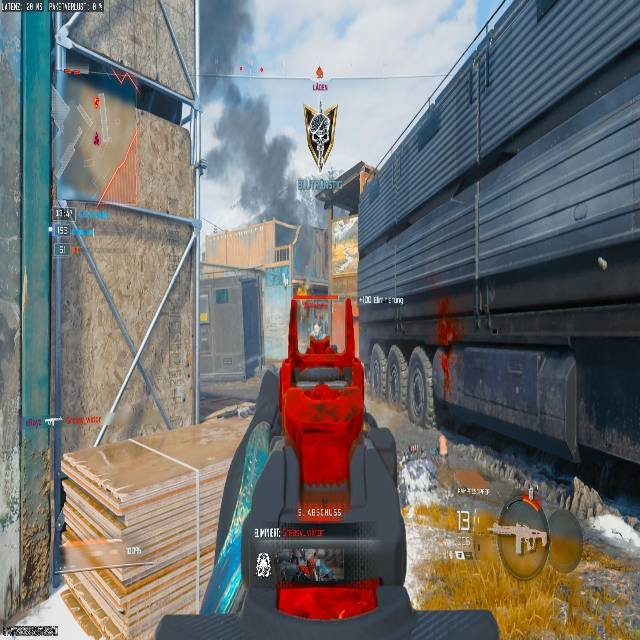player: (316, 313, 326, 338)
